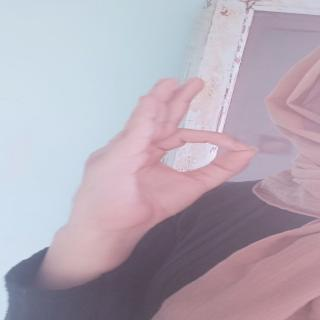Space: (69, 67, 268, 215)
